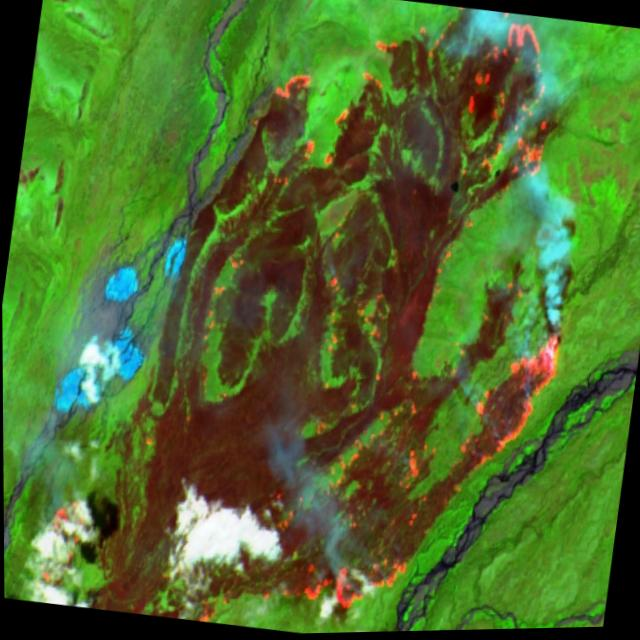fire: (22, 0, 614, 640)
